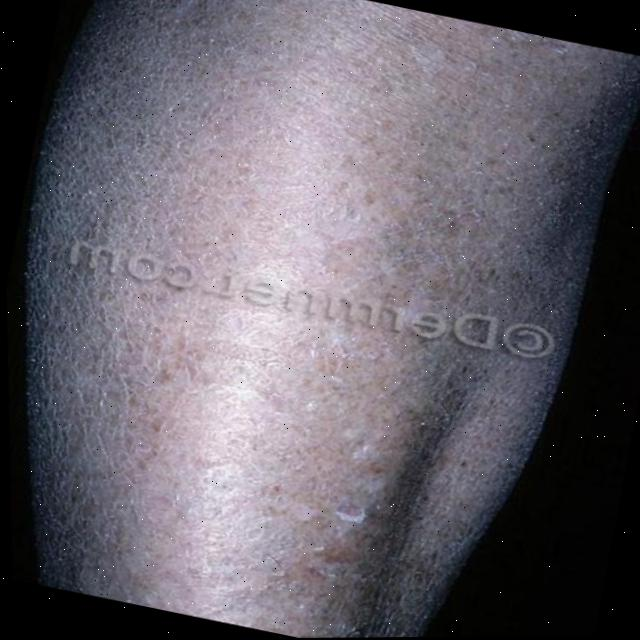Eczema: (0, 13, 524, 640)
